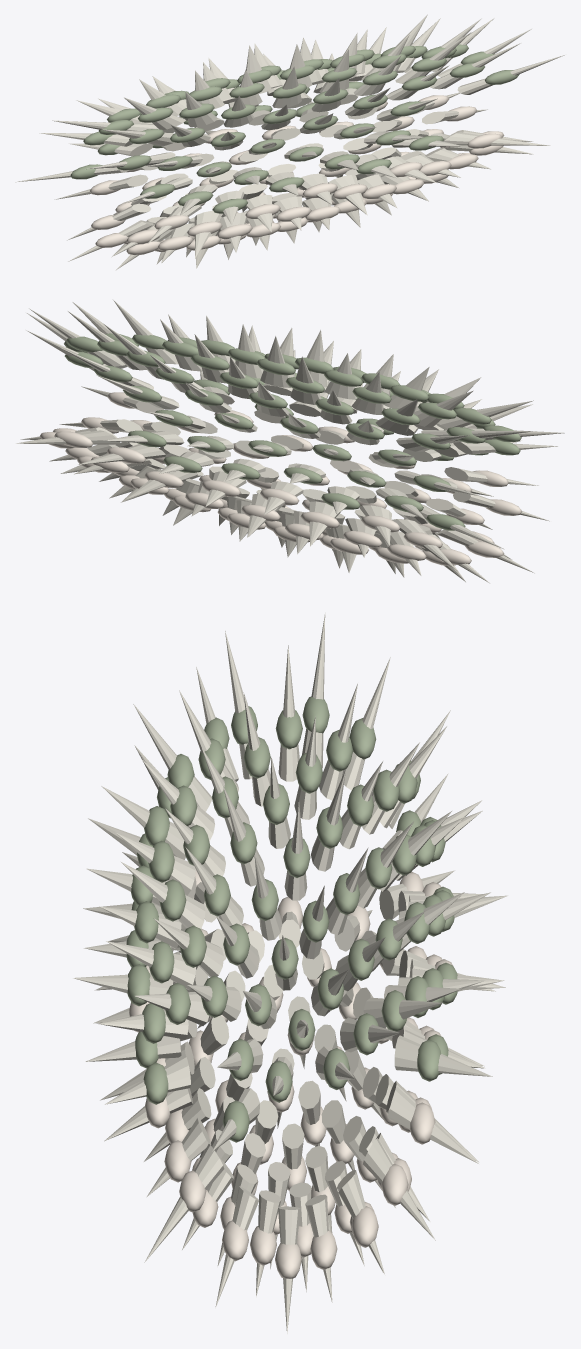
File: creature.spines.glb
The picture shows the model from 3 angles, top to bottom: view 1: azimuth 30°, elevation 25°; view 2: azimuth 150°, elevation 25°; view 3: azimuth 270°, elevation 25°; orthographic projection. The views are drawn at different scales.
Visible parts, largest first — view 1: Claw, Shell, FinRay; view 2: Claw, Shell, FinRay; view 3: Claw, Shell, FinRay.
Part boxes in pixels (bbox=[...]): Claw: bbox=[15, 14, 564, 270]; Shell: bbox=[70, 44, 519, 213]; FinRay: bbox=[90, 95, 504, 254]; Claw: bbox=[16, 300, 564, 583]; Shell: bbox=[64, 333, 521, 530]; FinRay: bbox=[39, 392, 522, 565]; Claw: bbox=[73, 613, 507, 1333]; Shell: bbox=[126, 696, 457, 1142]; FinRay: bbox=[129, 868, 452, 1278].
Bounding box in the file's own units: 7.53 × 2.75 × 2.89.
